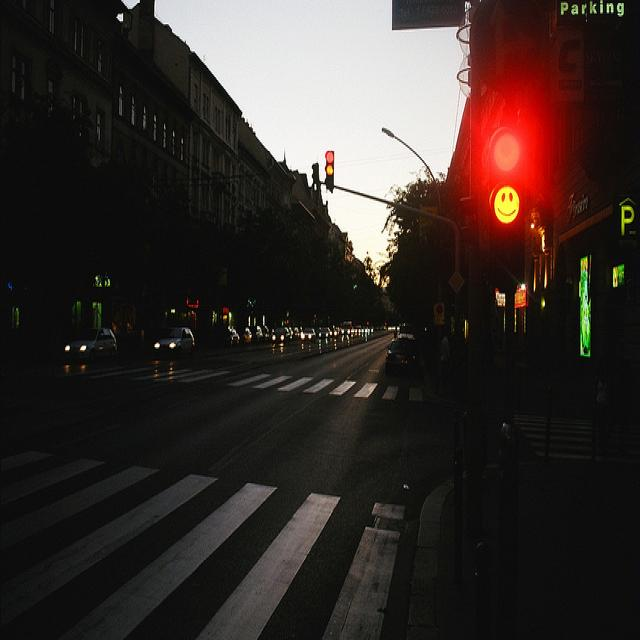Vehicle: (64, 328, 117, 363), (386, 332, 418, 380), (153, 326, 195, 356), (272, 327, 291, 346), (300, 327, 316, 344), (341, 320, 352, 336), (318, 328, 332, 339)
